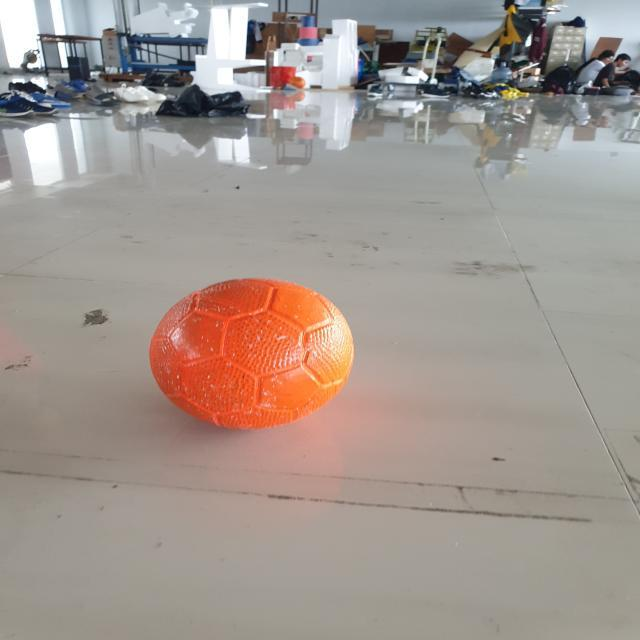bola: (140, 271, 356, 438)
